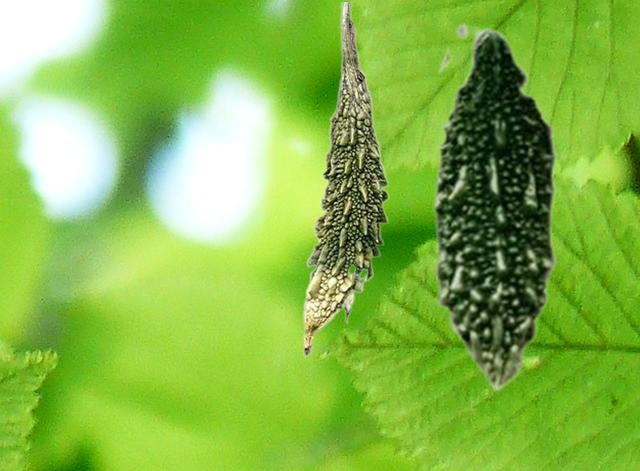ampalaya: (432, 22, 565, 392), (302, 2, 389, 357)
